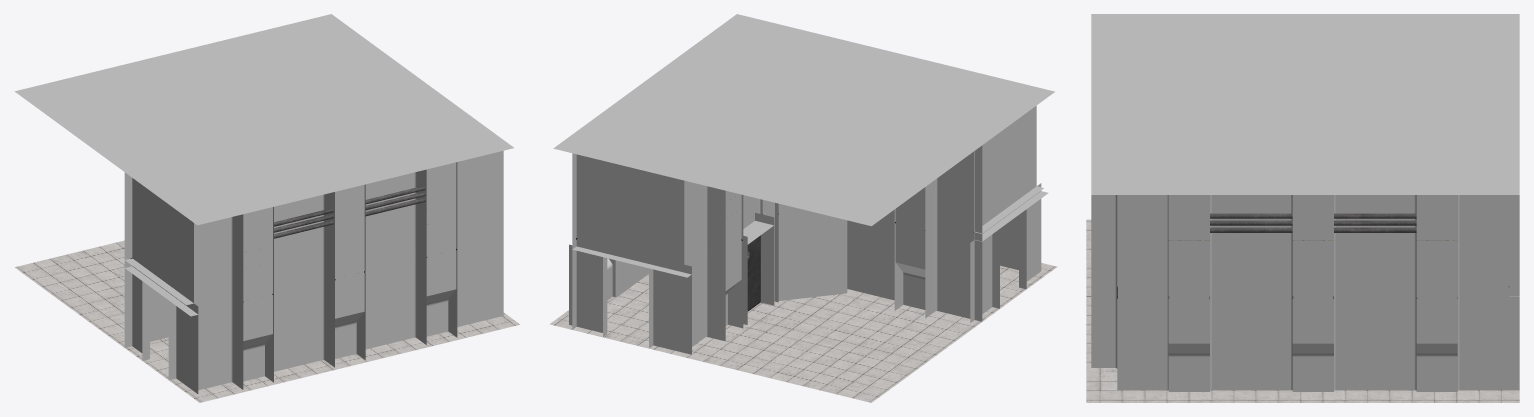
Rendered from Room2C_LCZ.fbx.
3 views of the same model, side by side, from view 1: azimuth 30°, elevation 25°; view 2: azimuth 150°, elevation 25°; view 3: azimuth 270°, elevation 25° (orthographic). The views are drawn at different scales.
Parts seen in each view (by area): view 1: Room2C_LCZ; view 2: Room2C_LCZ; view 3: Room2C_LCZ.
Part boxes in pixels (x1,y1,x2,y2): Room2C_LCZ: (14,14,519,402); Room2C_LCZ: (550,14,1057,402); Room2C_LCZ: (1086,14,1519,402).
Size of the model in its own units: 1344 by 704 by 1344.
